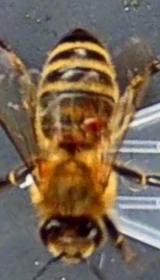varroa_mite: (67, 111, 110, 130)
